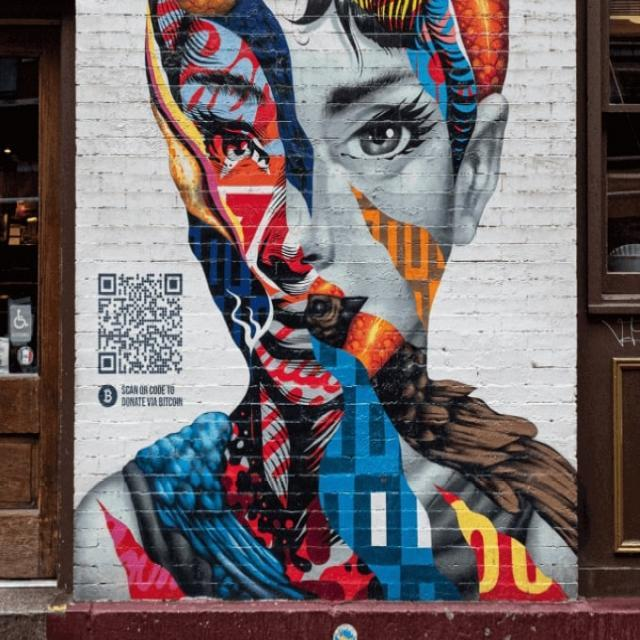qr_code: (98, 273, 182, 374)
